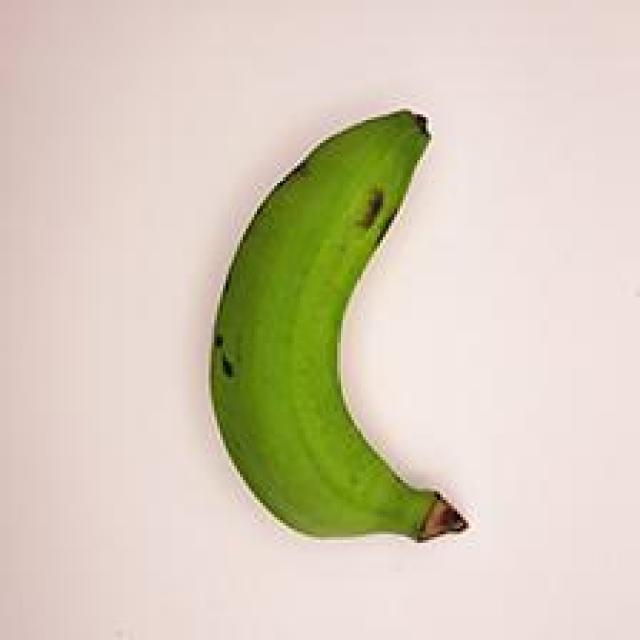Raw: (191, 84, 493, 568)
